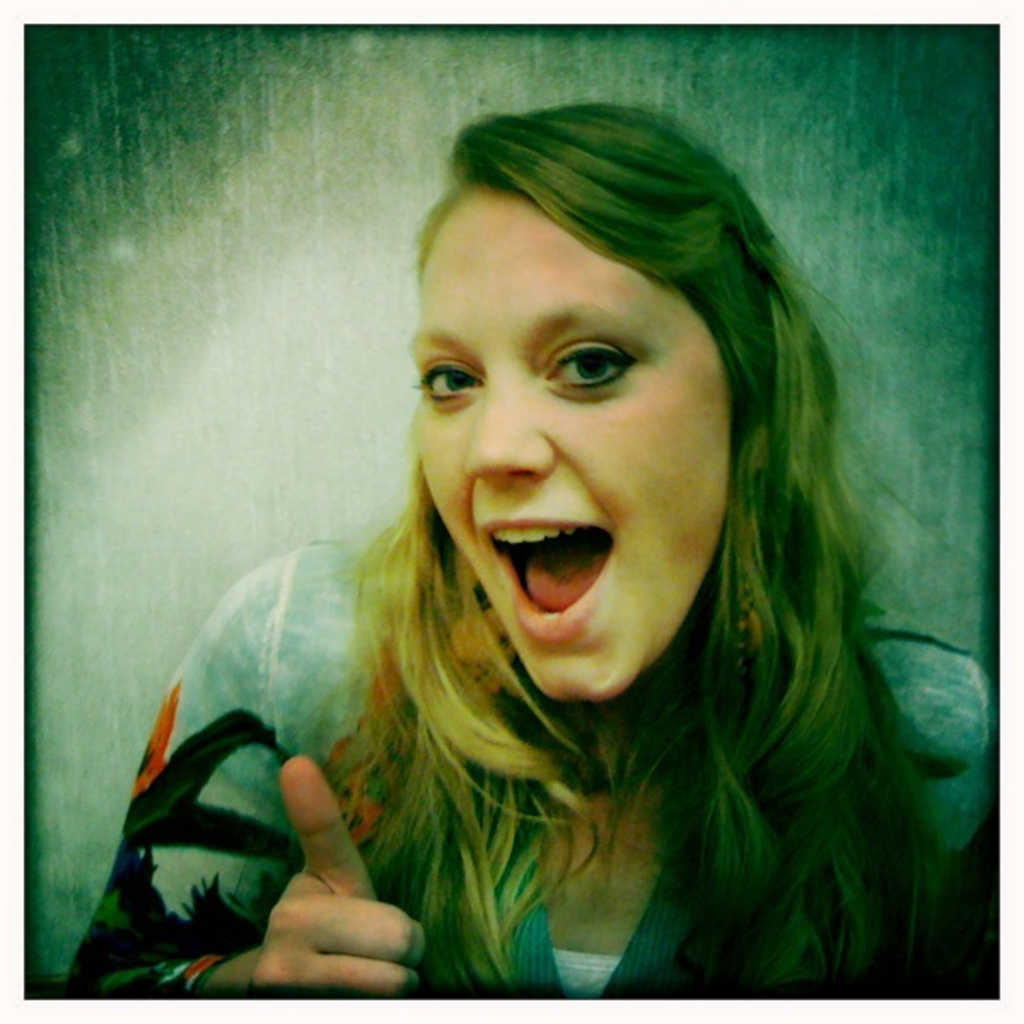Human_hand: (229, 749, 418, 1014)
